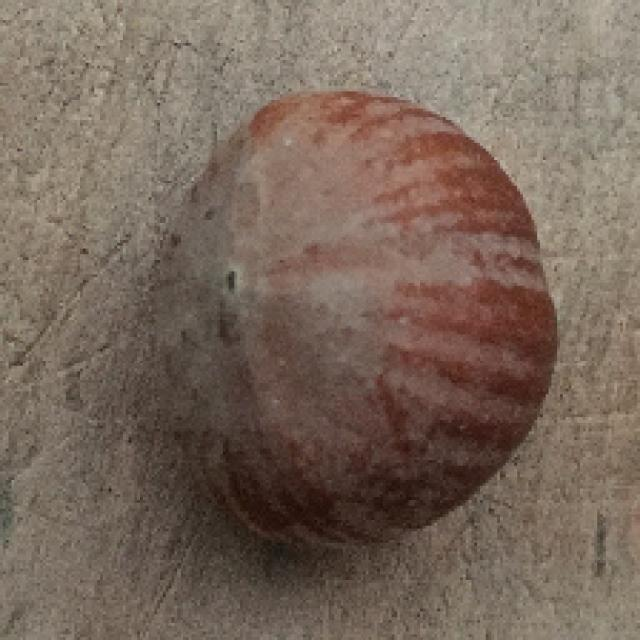QualityHazelnut: (144, 90, 554, 555)
